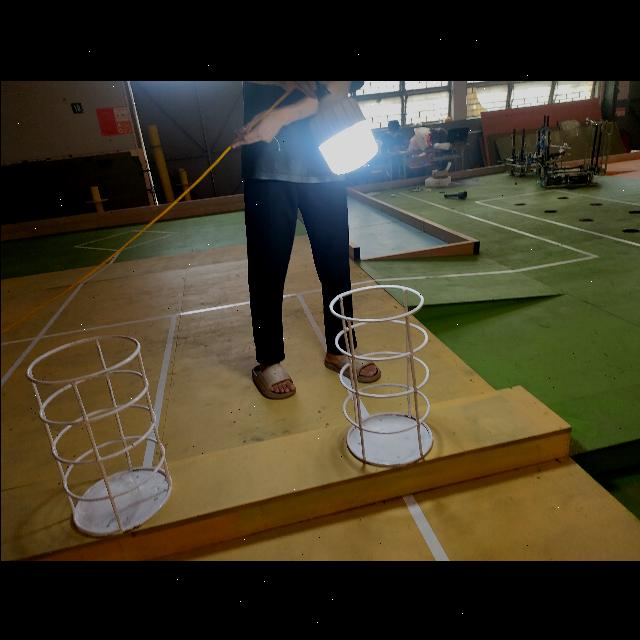S: (22, 327, 174, 540), (326, 284, 436, 466)
